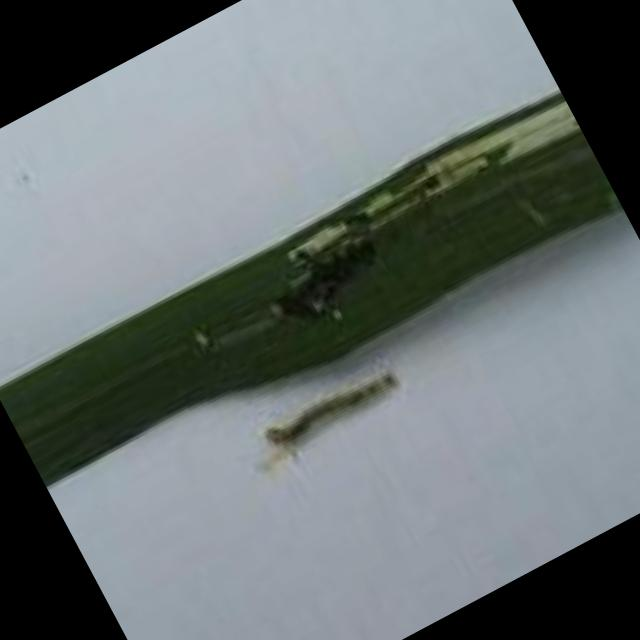leaf-folder: (225, 332, 426, 503)
